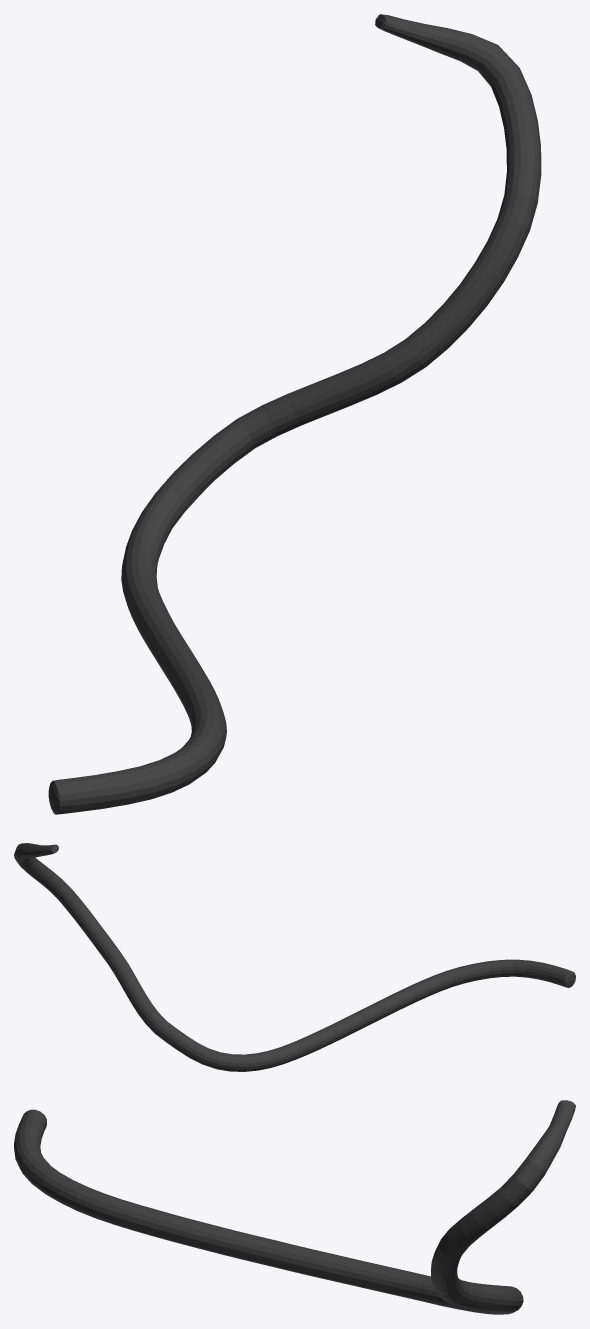
Rendered from NERVE_VII_extracranial_L.glb.
The picture shows the model from 3 angles, top to bottom: view 1: azimuth 30°, elevation 25°; view 2: azimuth 150°, elevation 25°; view 3: azimuth 270°, elevation 25°; orthographic projection. The views are drawn at different scales.
Parts seen in each view (by area): view 1: NERVE_VII_extracranial_L; view 2: NERVE_VII_extracranial_L; view 3: NERVE_VII_extracranial_L.
Boxes of the visible parts, x1,y1,x2,y2 form: NERVE_VII_extracranial_L: [48, 14, 541, 814]; NERVE_VII_extracranial_L: [14, 843, 575, 1071]; NERVE_VII_extracranial_L: [14, 1100, 575, 1314].
Size of the model in its own units: 10.06 by 5.2 by 8.15.
1 material, 1 textured.
